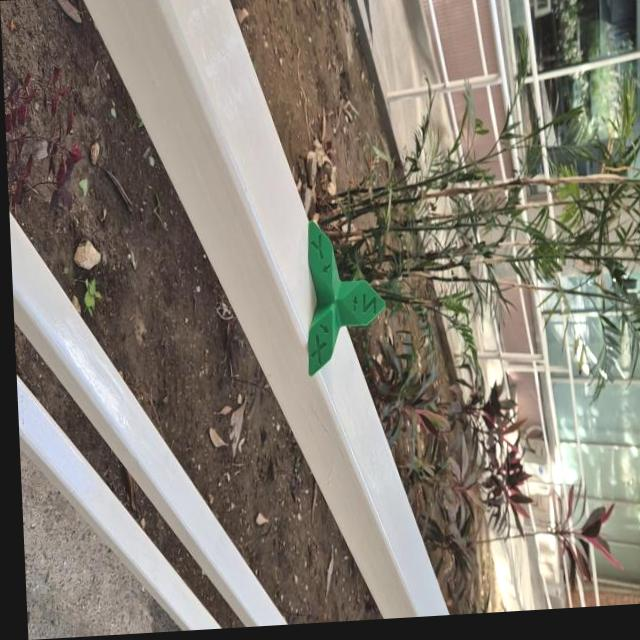eje: (301, 212, 390, 378)
